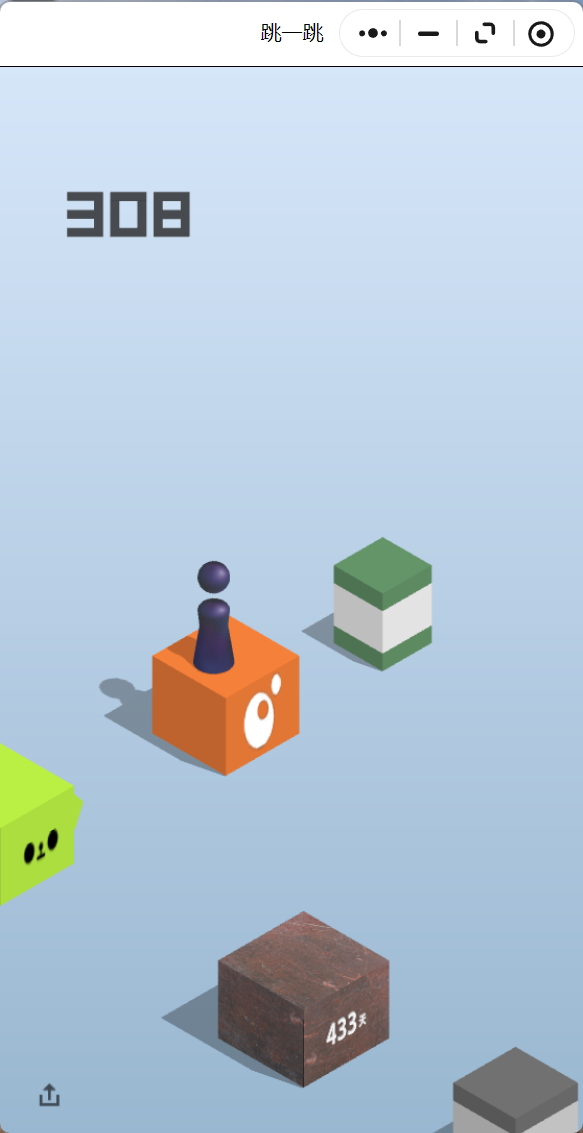piece: (198, 561, 229, 669)
target: (334, 537, 433, 593)
